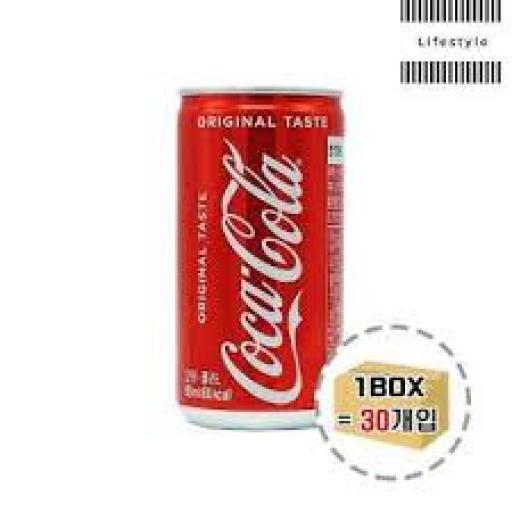Coca: (171, 75, 350, 439)
